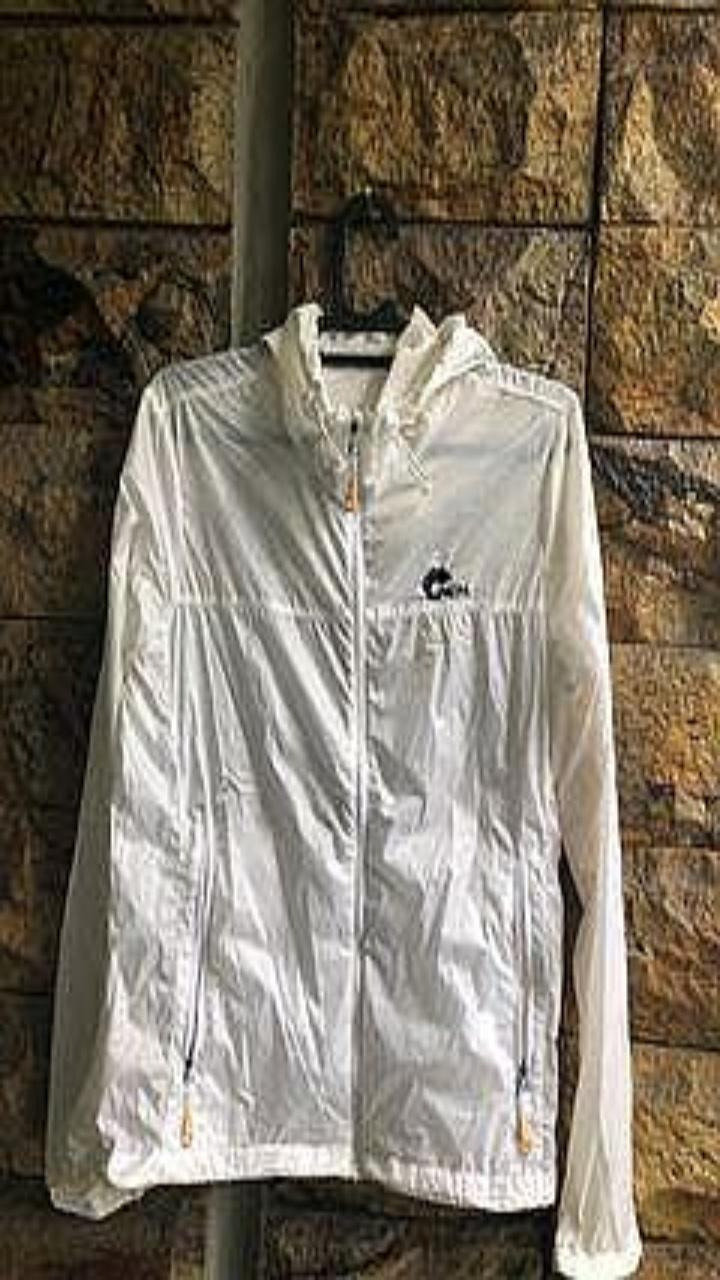Sports_Jacket: (45, 301, 641, 1279)
